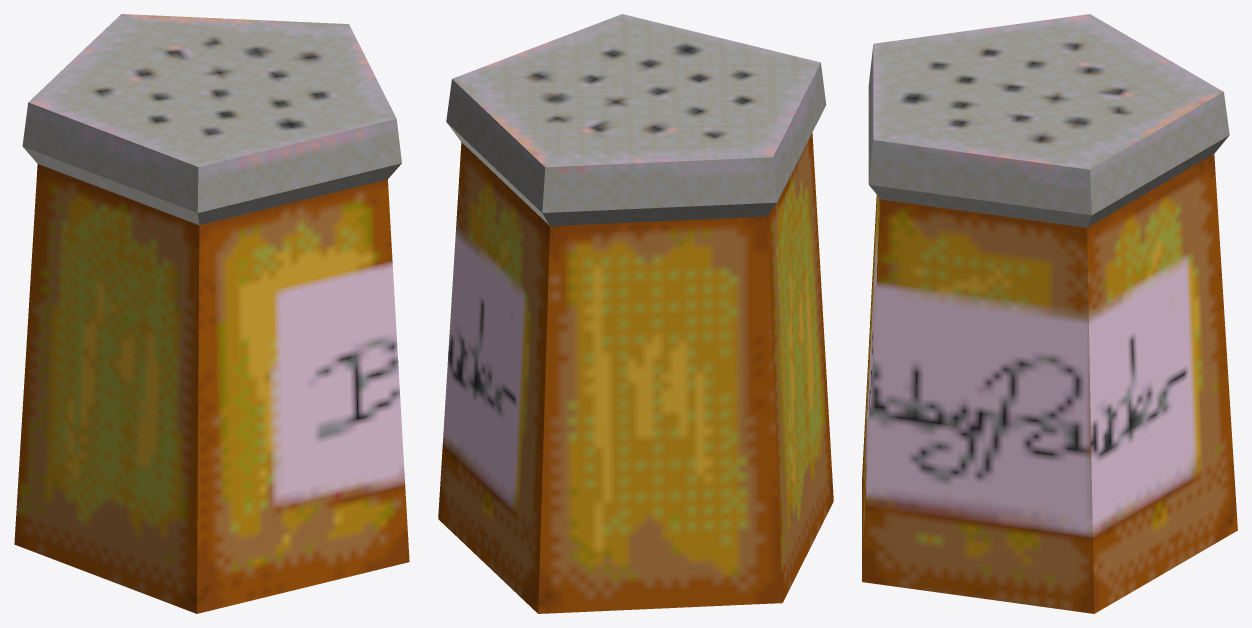
The model's file is babypowder.fbx.
3 renders of one model, left to right at view 1: azimuth 30°, elevation 25°; view 2: azimuth 150°, elevation 25°; view 3: azimuth 270°, elevation 25°, orthographic.
Parts seen in each view (by area): view 1: bottle; view 2: bottle; view 3: bottle.
Part boxes in pixels (box(x1,y1,x2,y2)): bottle: box(14, 14, 409, 613); bottle: box(438, 14, 833, 613); bottle: box(862, 14, 1237, 613).
Size of the model in its own units: 190 by 233 by 181.
